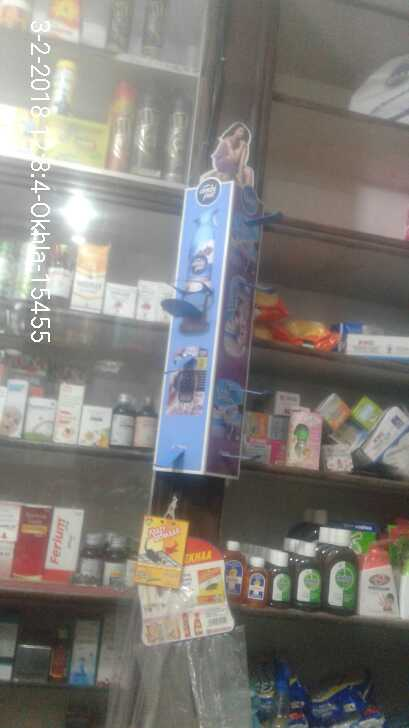reject: (166, 215, 261, 354)
